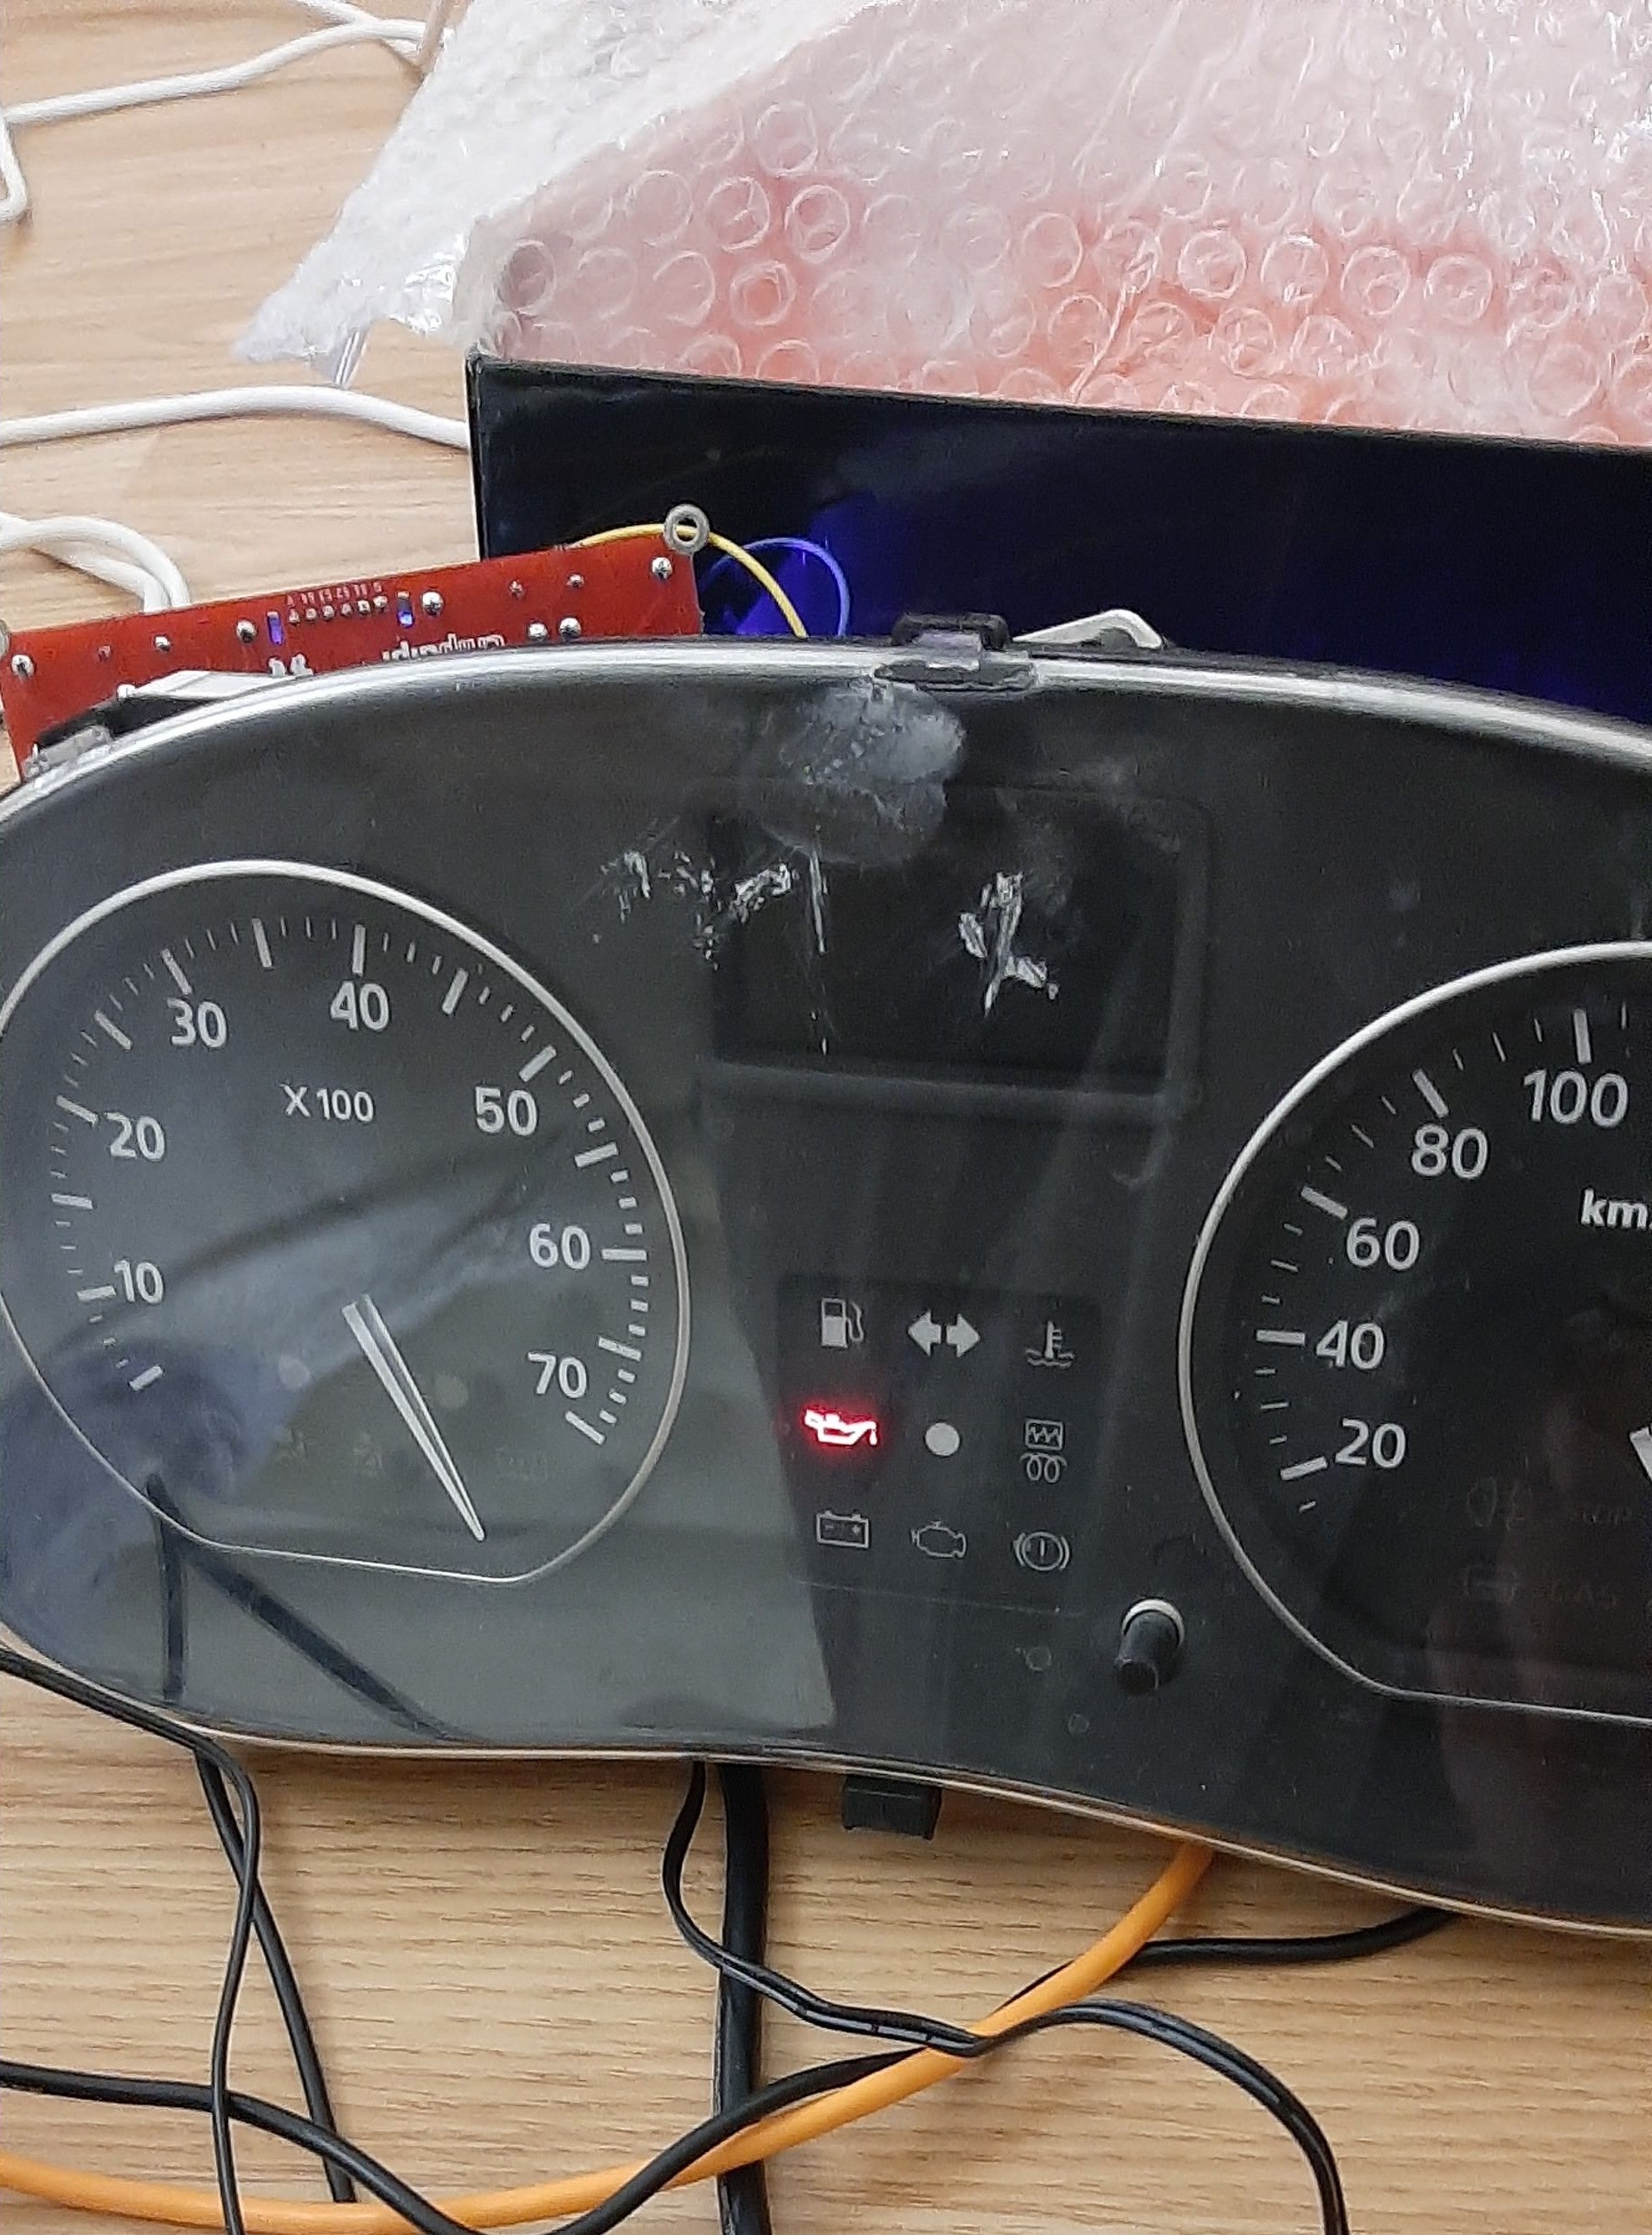oil26: (800, 1404, 882, 1449)
